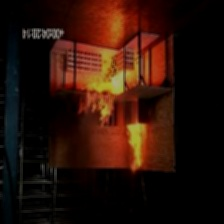fire: (81, 41, 162, 183)
